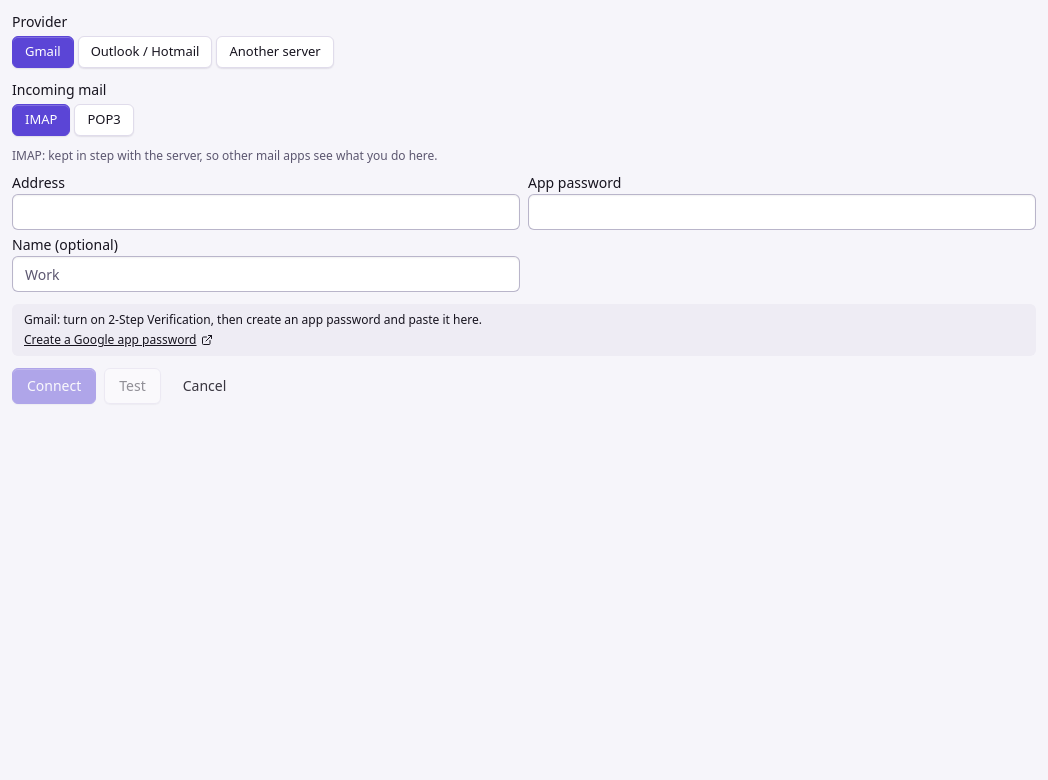
Test: adding an email account › fills the servers in from the address, keeps port and security together, and tests each side
Click the radio button labelled "Another server" at x=275, y=52, box [216,36,334,68]
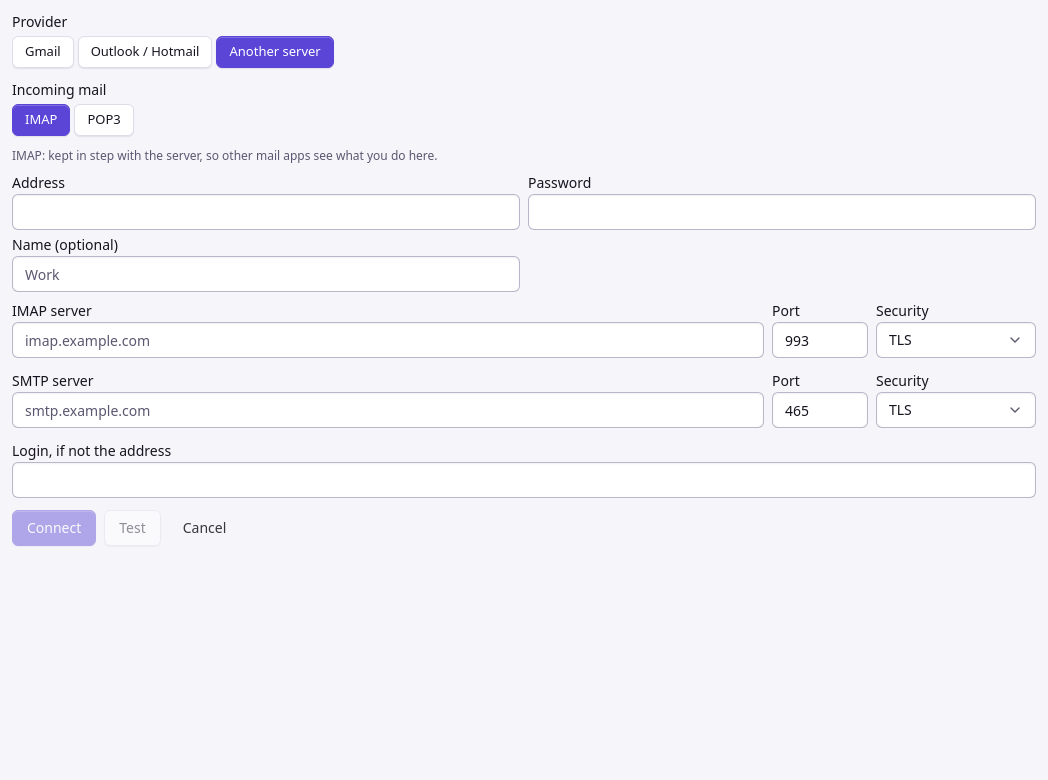
Click the radio button labelled "POP3" at x=104, y=120, box [74,104,134,136]
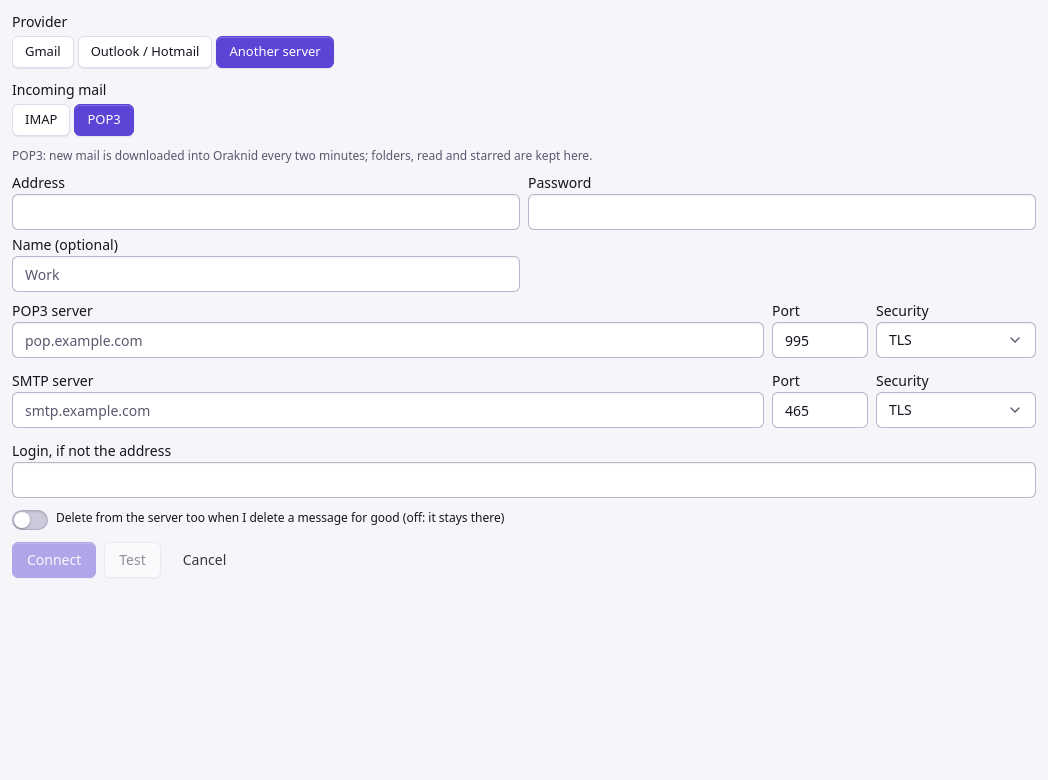
Type "a.bakdi@abakdi.com" into the field labelled "Address" at x=266, y=212, box [12,194,520,230]
Leave the field labelled "Address", box [12,194,520,230]
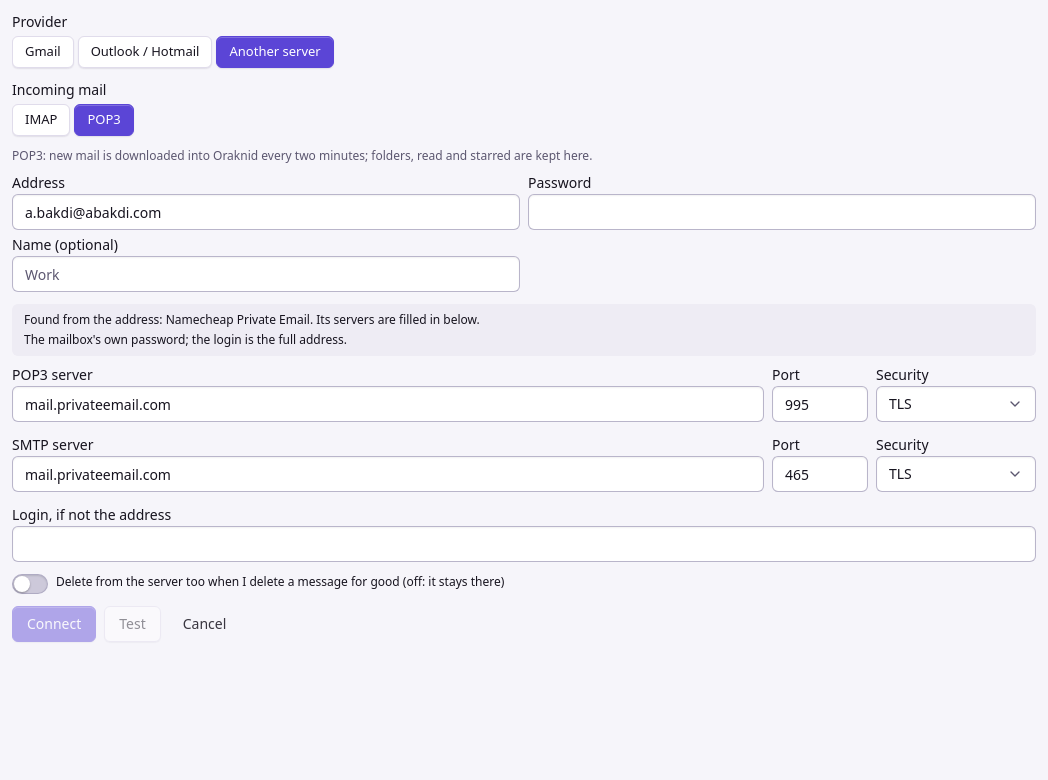
Result: the 2nd number field labelled "Port" holds "465"
Result: the text "Found from the address: Namecheap Private Email" is shown at [24,311,480,328]
Result: the field labelled "POP3 server" holds "mail.privateemail.com" at [12,386,764,422]
Replace the text in the 2nd number field labelled "Port" with "587" at x=820, y=474, box [772,456,868,492]
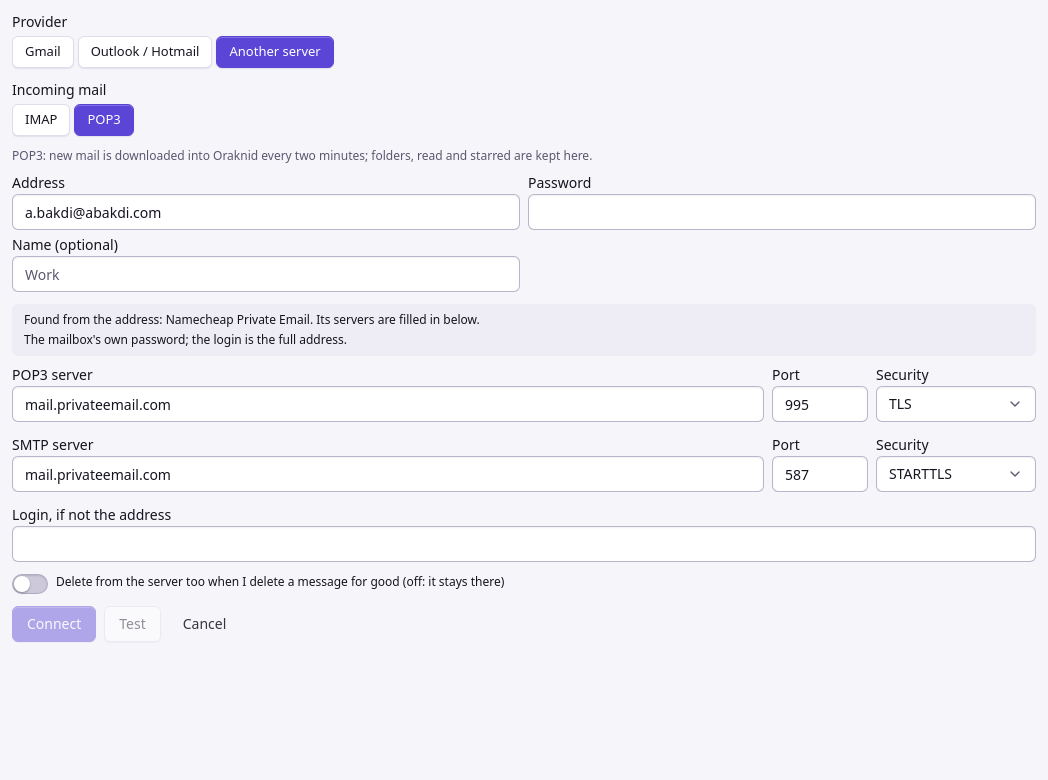
Result: the dropdown named "Security" reads "STARTTLS" at [876,456,1036,492]
Type "secret" into the password field labelled "Password" at x=782, y=212, box [528,194,1036,230]
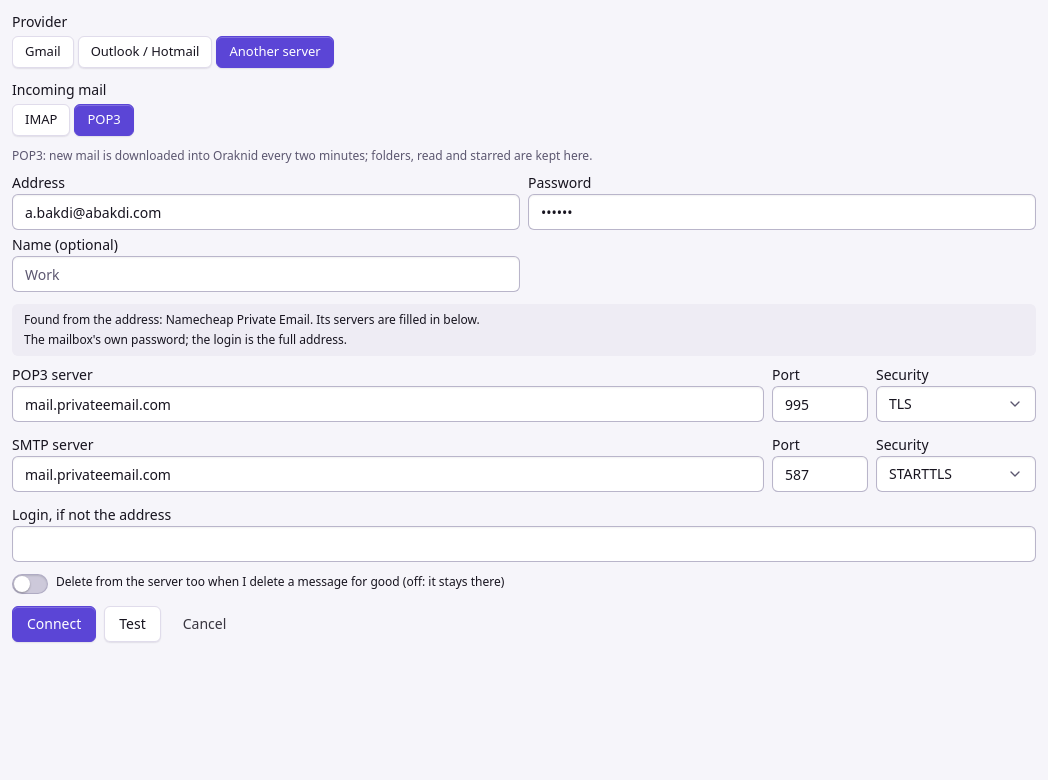
Click the button "Test" at x=133, y=624, box [104,606,161,642]
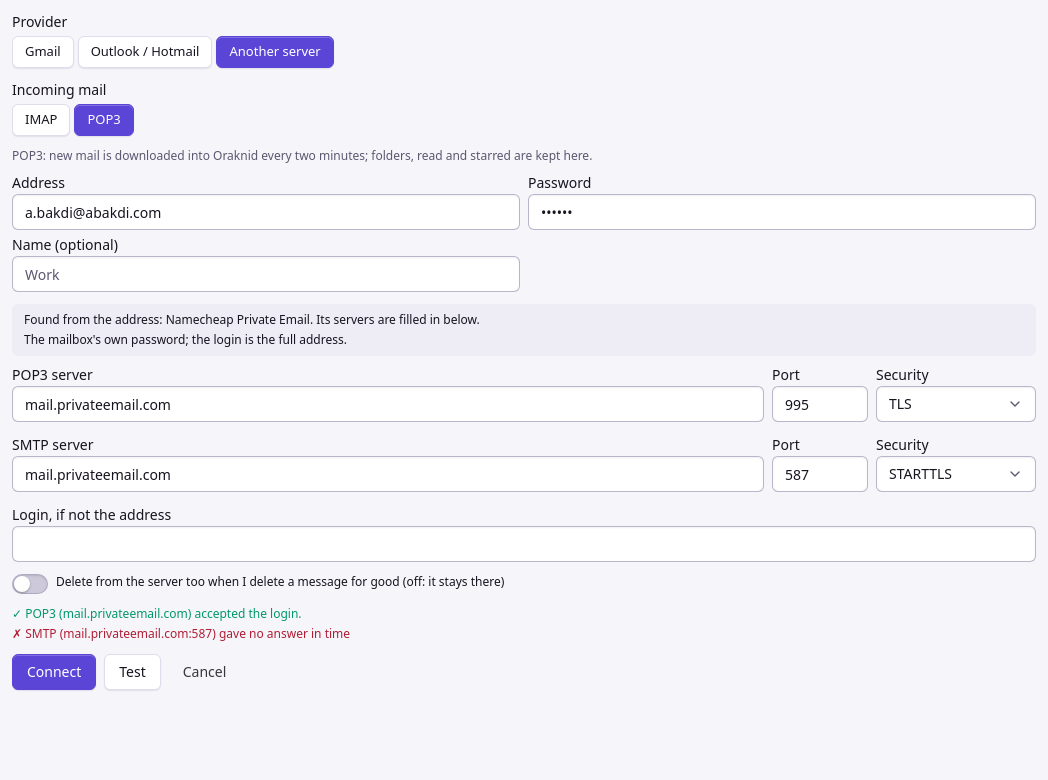
Result: the list item "✓ POP3 (mail.privateemail.com) accepted the login." is shown at [12,605,302,622]
Result: the list item "✗ SMTP (mail.privateemail.com:587) gave no answer in time" is shown at [12,625,350,642]
